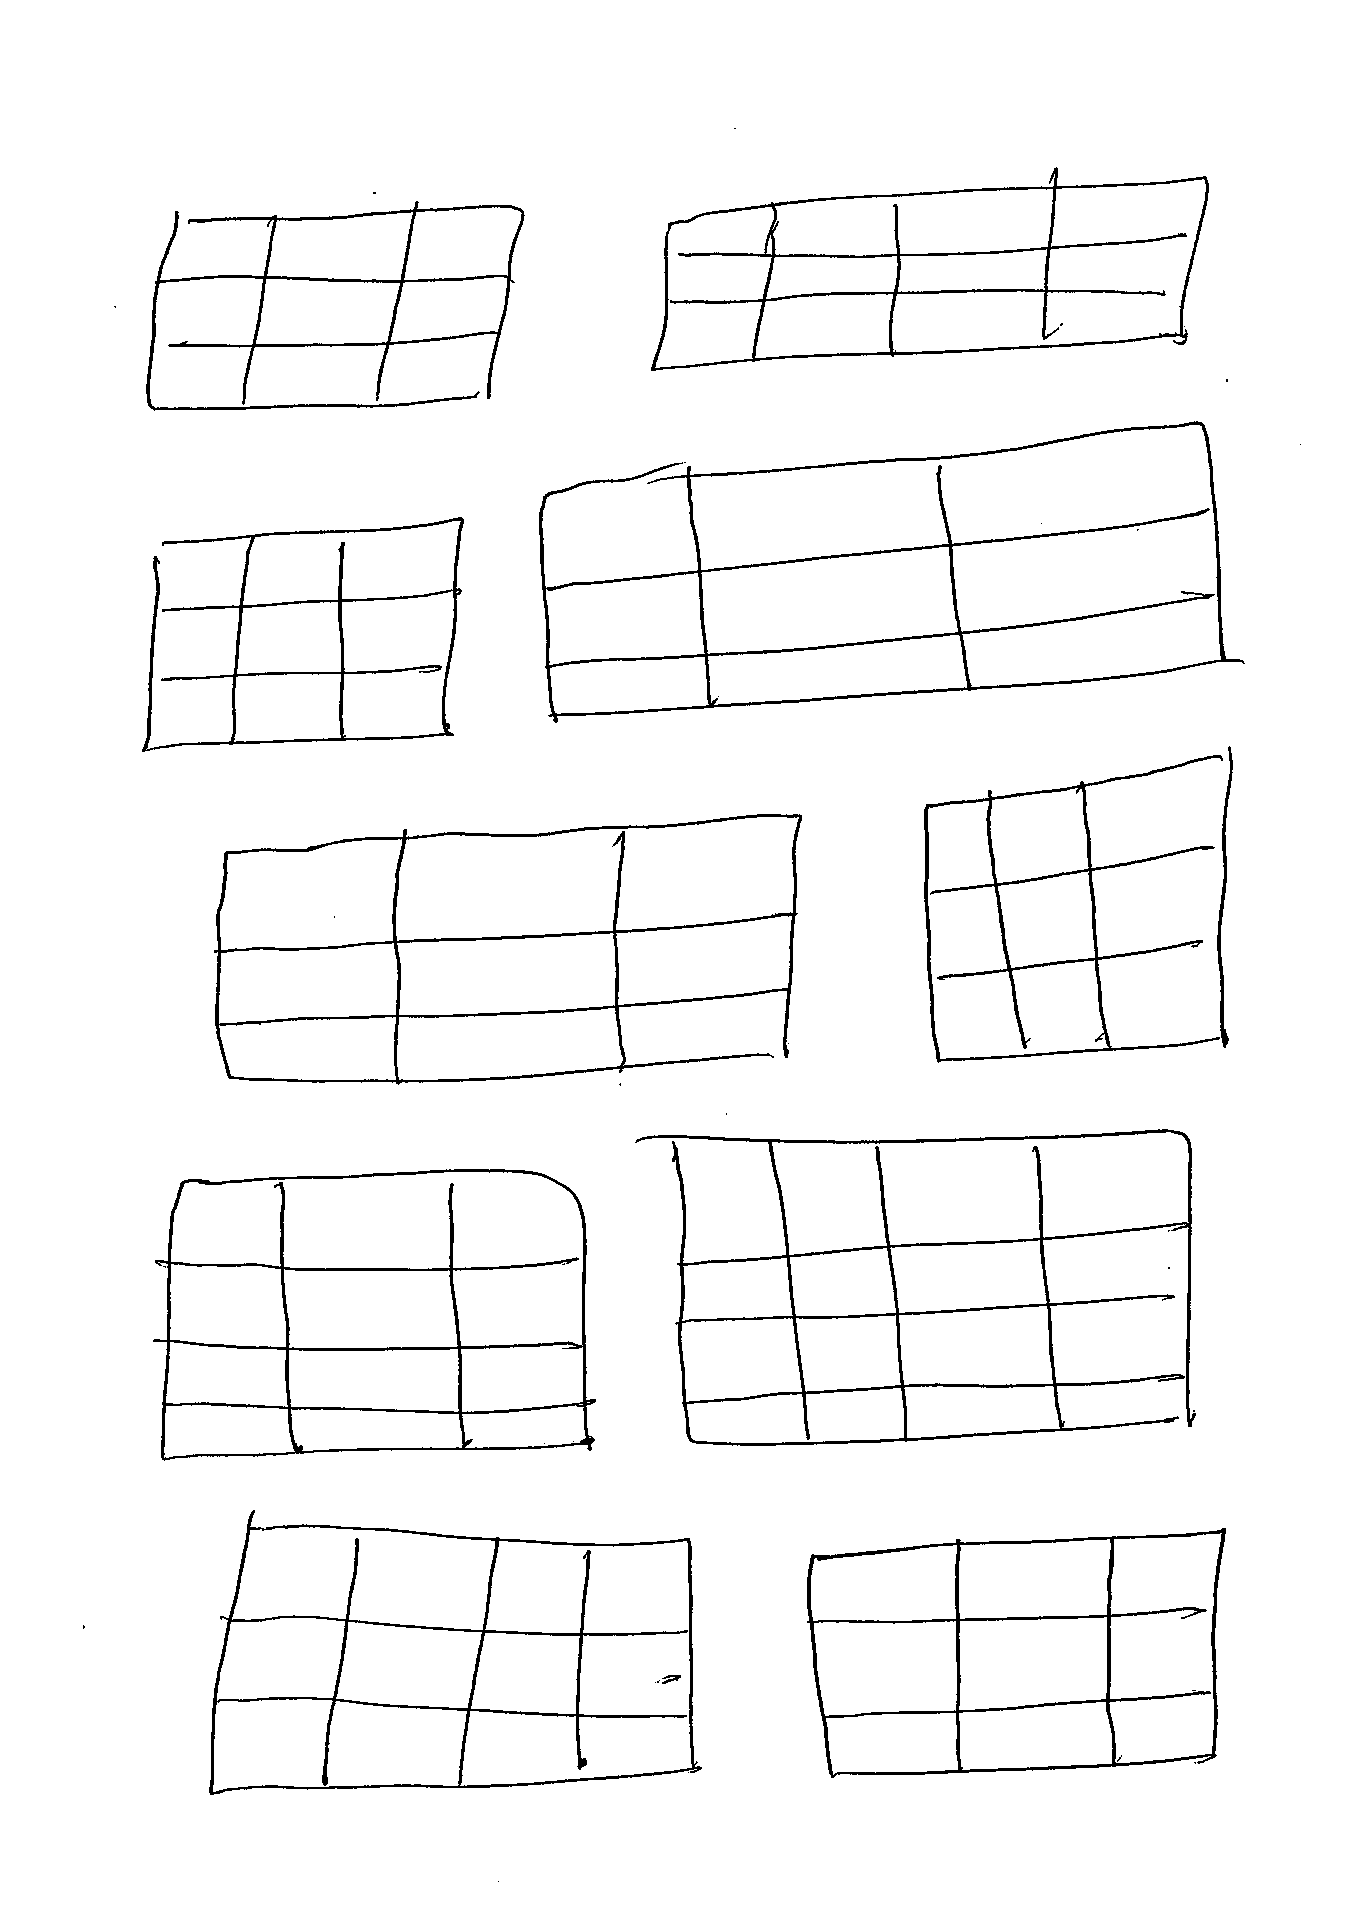Table: (537, 418, 1231, 722), (665, 1130, 1199, 1453), (208, 807, 804, 1088), (203, 1520, 704, 1802), (152, 1164, 597, 1464), (646, 173, 1214, 376), (804, 1521, 1233, 1785), (921, 747, 1240, 1063), (140, 197, 531, 418), (137, 515, 467, 754)
